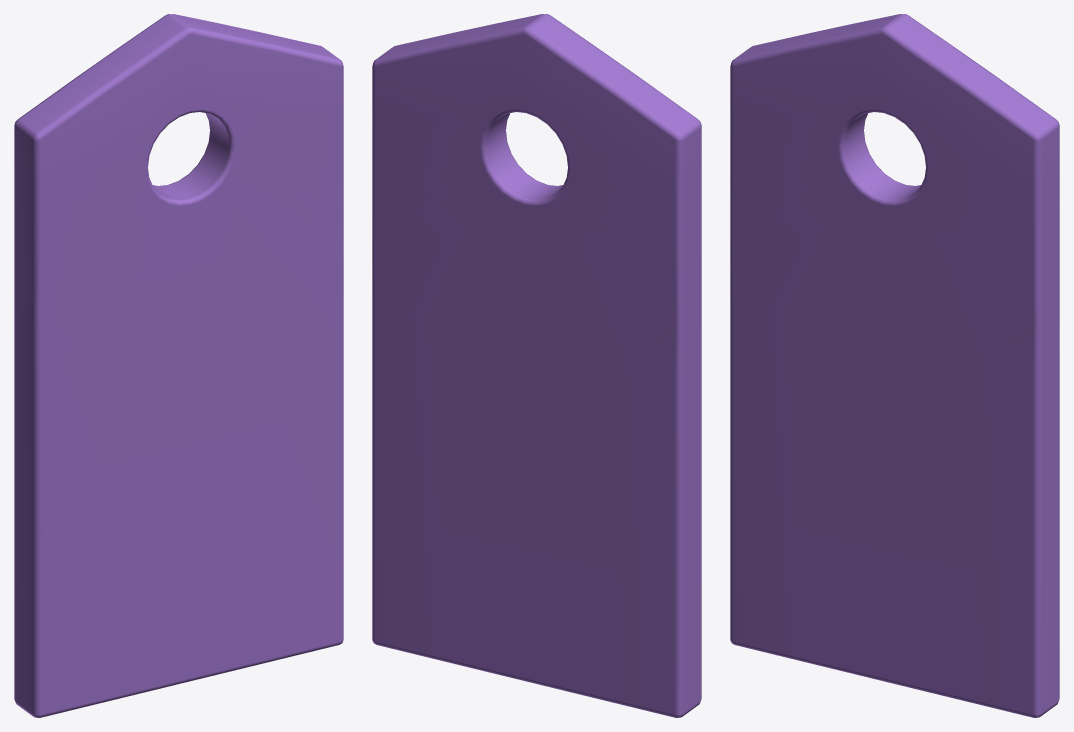
Rendered from Public_10_Label_2.glb.
3 views of the same model, side by side, from view 1: azimuth 30°, elevation 25°; view 2: azimuth 150°, elevation 25°; view 3: azimuth 330°, elevation 25° (orthographic).
Parts seen in each view (by area): view 1: Public_10_Label_2; view 2: Public_10_Label_2; view 3: Public_10_Label_2.
Boxes of the visible parts, <box> form: Public_10_Label_2: <box>14,14,343,717</box>; Public_10_Label_2: <box>372,14,701,717</box>; Public_10_Label_2: <box>730,14,1059,717</box>.
Size of the model in its own units: 3.44 by 6.93 by 0.4572.
1 material, 1 textured.
